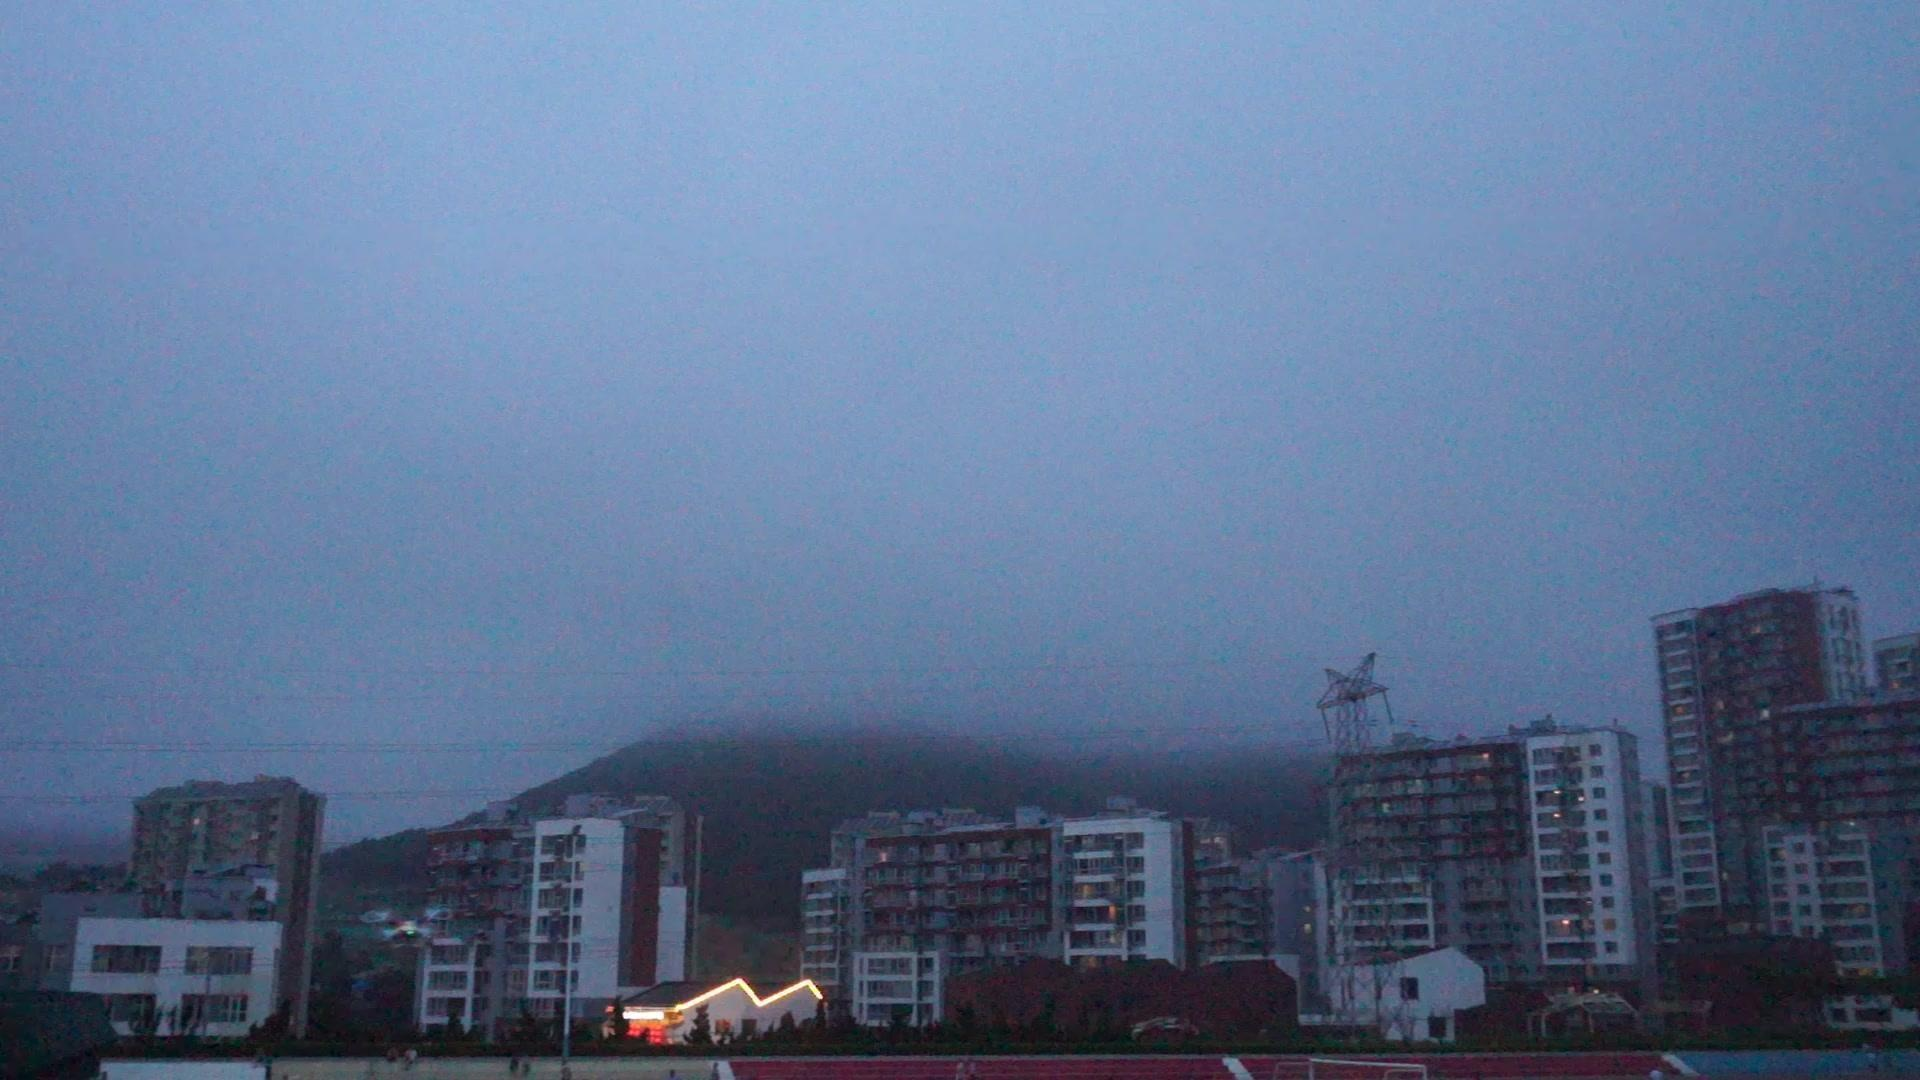UAV: (360, 905, 454, 949)
